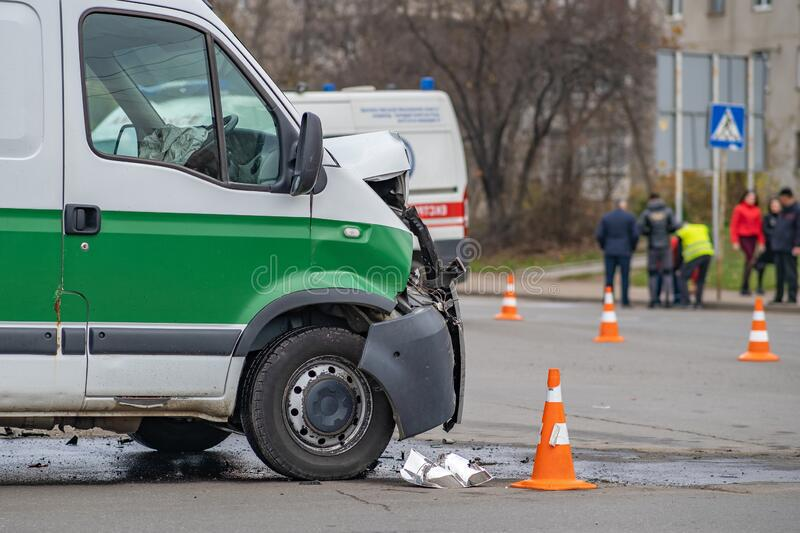front-bumper-dent: (370, 215, 485, 457)
